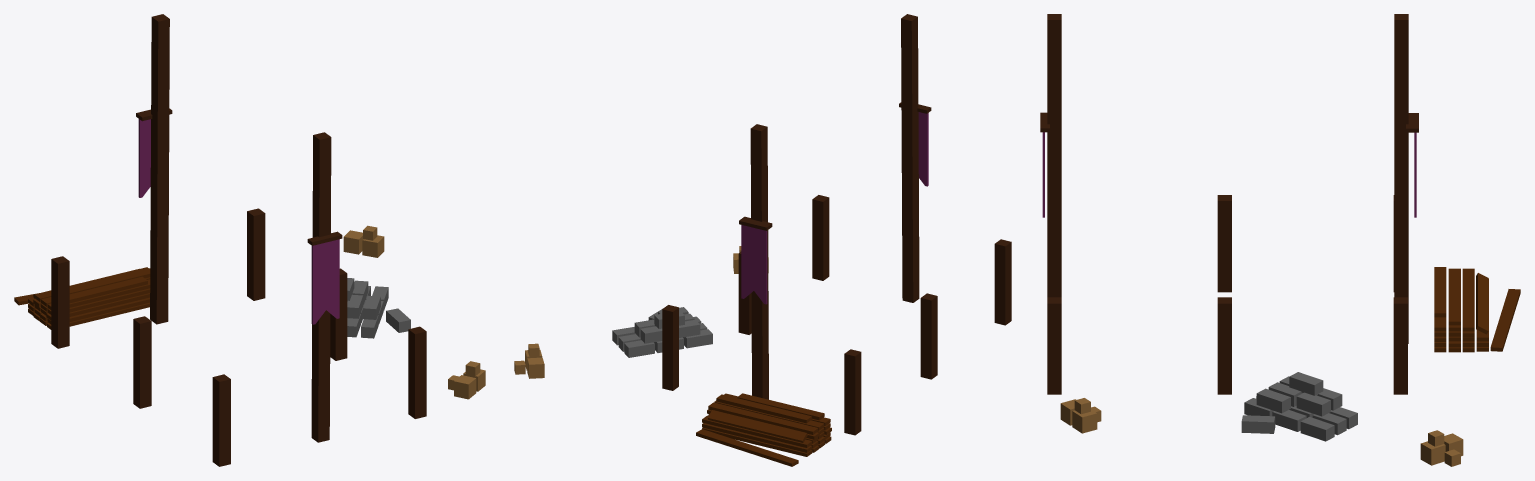
File: LogHutBuildPhase1v1.fbx
3 renders of one model, left to right at view 1: azimuth 30°, elevation 25°; view 2: azimuth 150°, elevation 25°; view 3: azimuth 270°, elevation 25°, orthographic. The views are drawn at different scales.
Visible parts, largest first — view 1: Cube.2218; view 2: Cube.2218; view 3: Cube.2218.
Part boxes in pixels (<box>): Cube.2218: <box>14,14,485,466</box>; Cube.2218: <box>514,14,1011,466</box>; Cube.2218: <box>1040,14,1520,466</box>.
Size of the model in its own units: 202 by 169 by 226.
